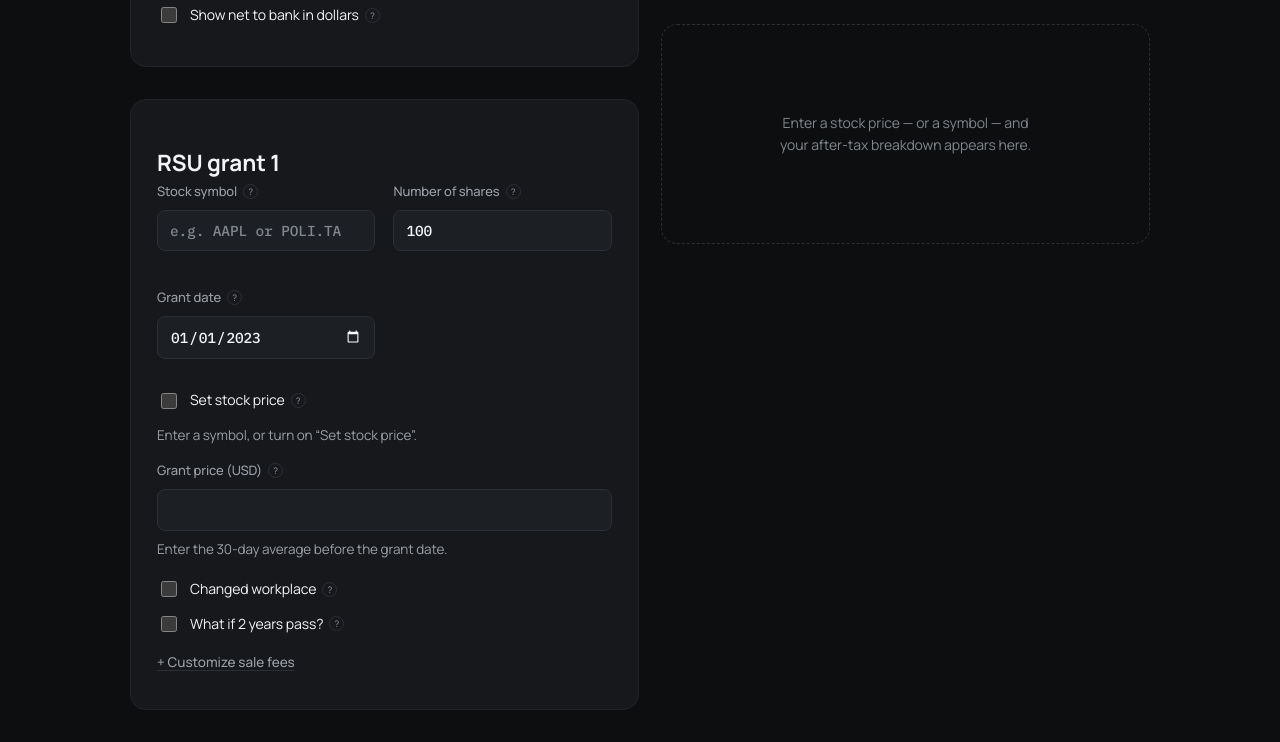
Scenario: result rows › does not expose plain rows as buttons
(page scrolled)
Click the checkbox labelled "Set stock price": click(169, 401) [161,393,177,409]
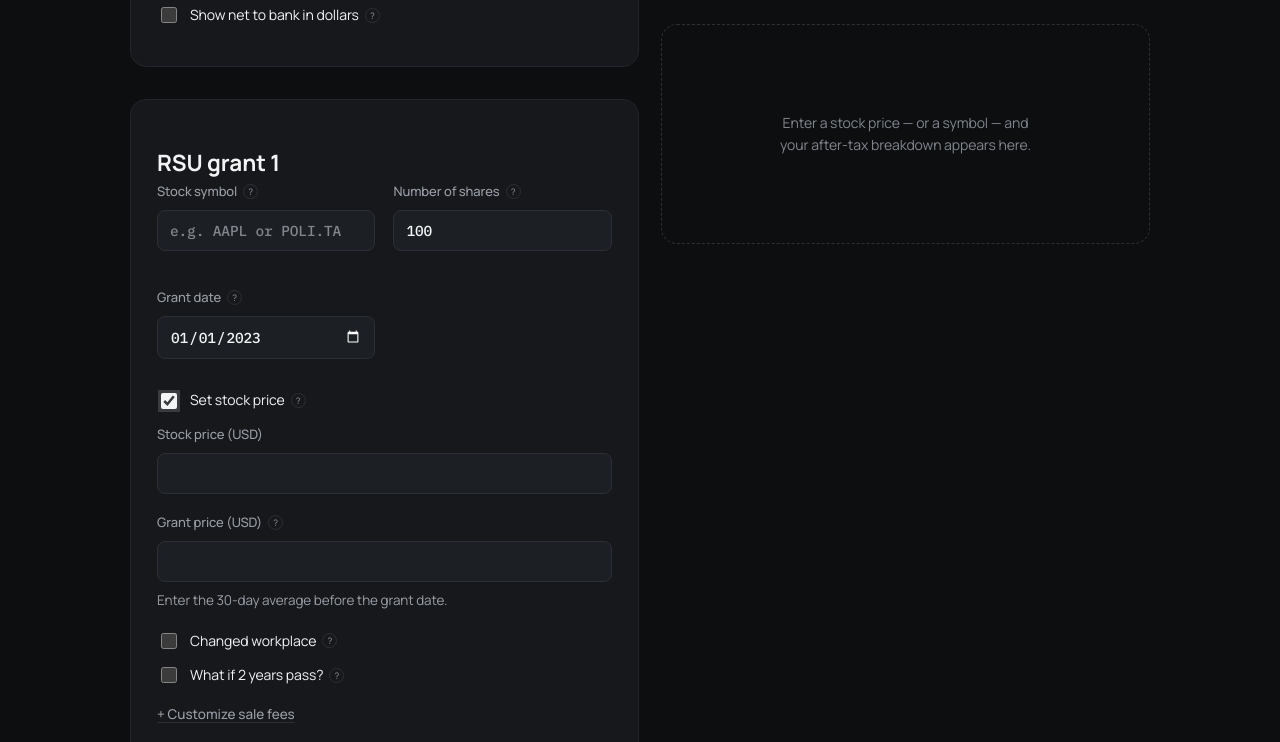
In the number field labelled "Stock price (USD)": (384, 473) [157,453,612,494], type "200"
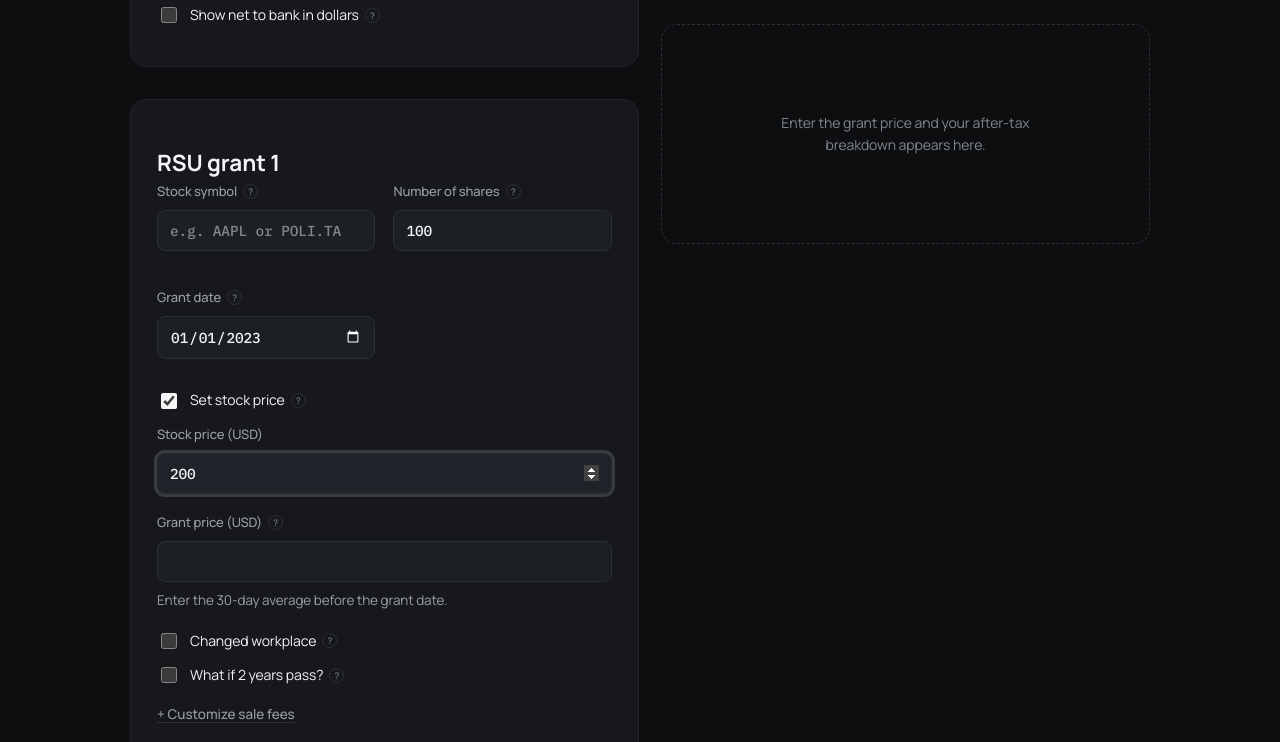
In the number field labelled "Grant price (USD)": (384, 562) [157,541,612,582], type "200"
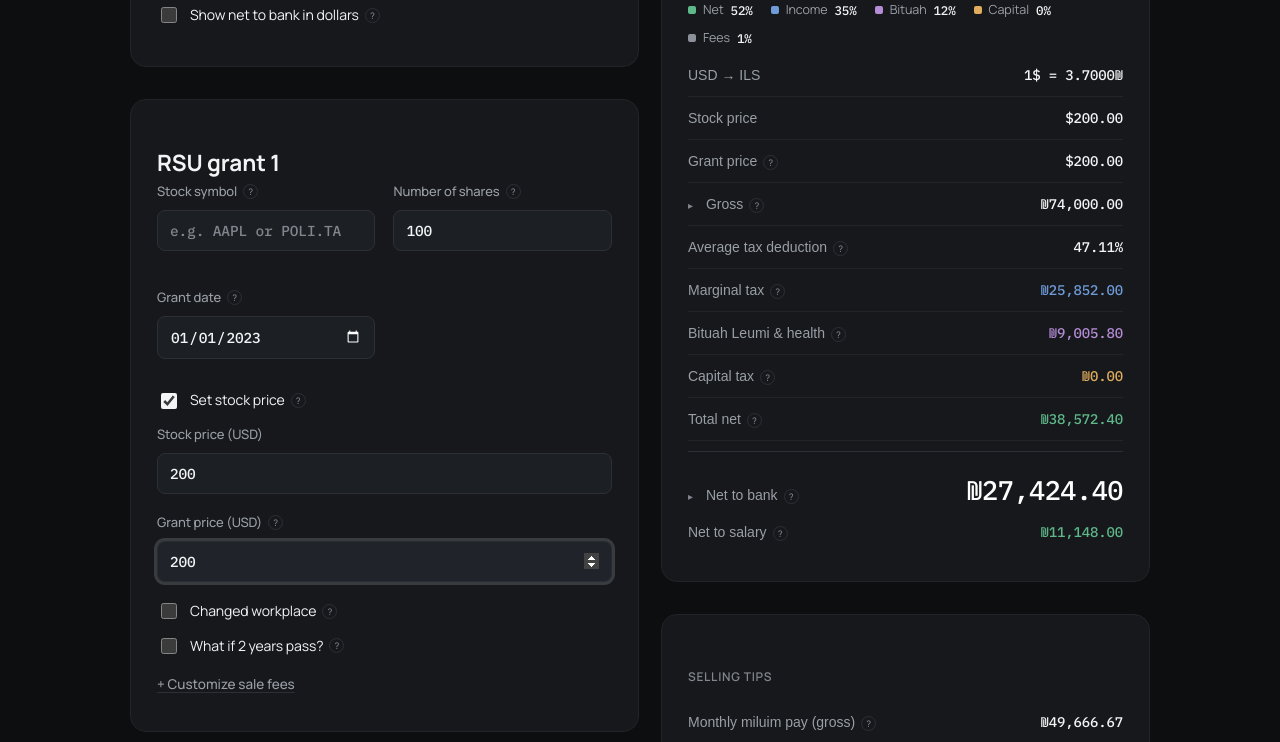
Now the text "Total net" is shown, box [688,412,741,428]
